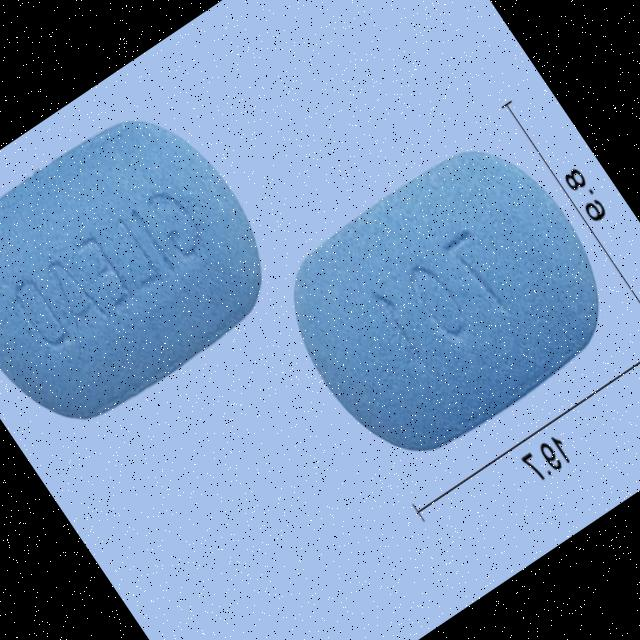Truvada Tab: (255, 118, 638, 486), (0, 85, 297, 451)
